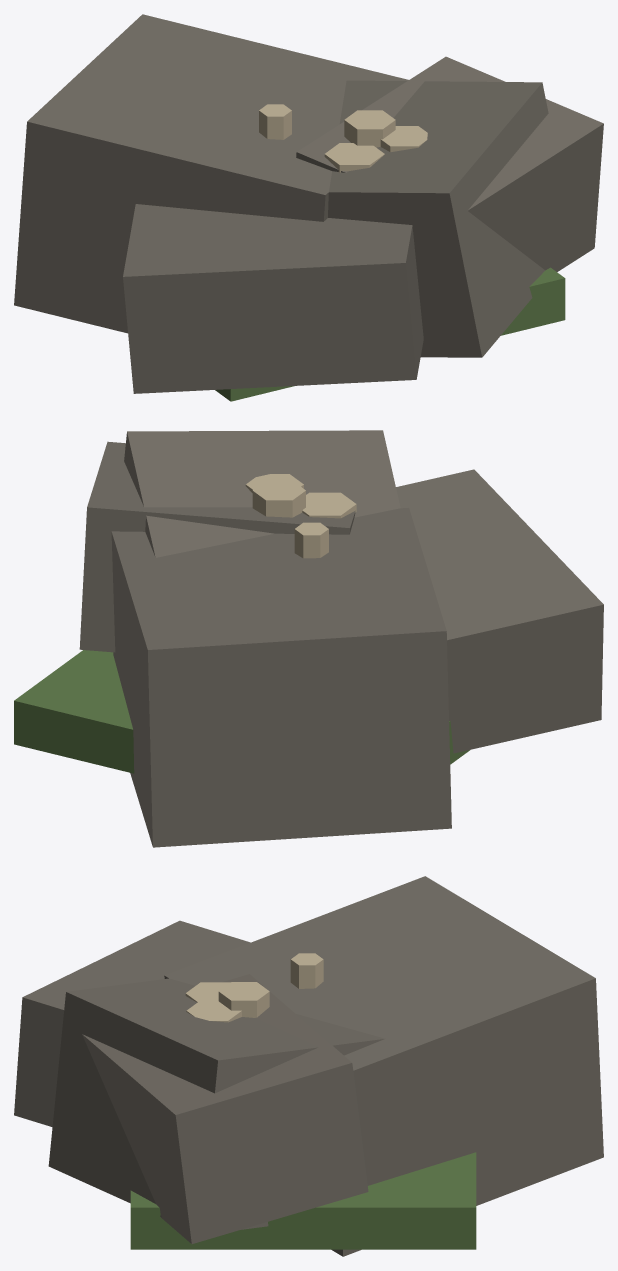
File: P_BarnacleRock.glb
3 views of the same model, one above another, from view 1: azimuth 30°, elevation 25°; view 2: azimuth 150°, elevation 25°; view 3: azimuth 270°, elevation 25° (orthographic). The views are drawn at different scales.
Visible parts, largest first — view 1: P_BarnacleRock; view 2: P_BarnacleRock; view 3: P_BarnacleRock.
Part boxes in pixels (box(x1,y1,x2,y2)): P_BarnacleRock: box(14, 14, 603, 401); P_BarnacleRock: box(14, 430, 603, 847); P_BarnacleRock: box(14, 876, 603, 1256).
Size of the model in its own units: 1.43 by 0.6365 by 1.54.
